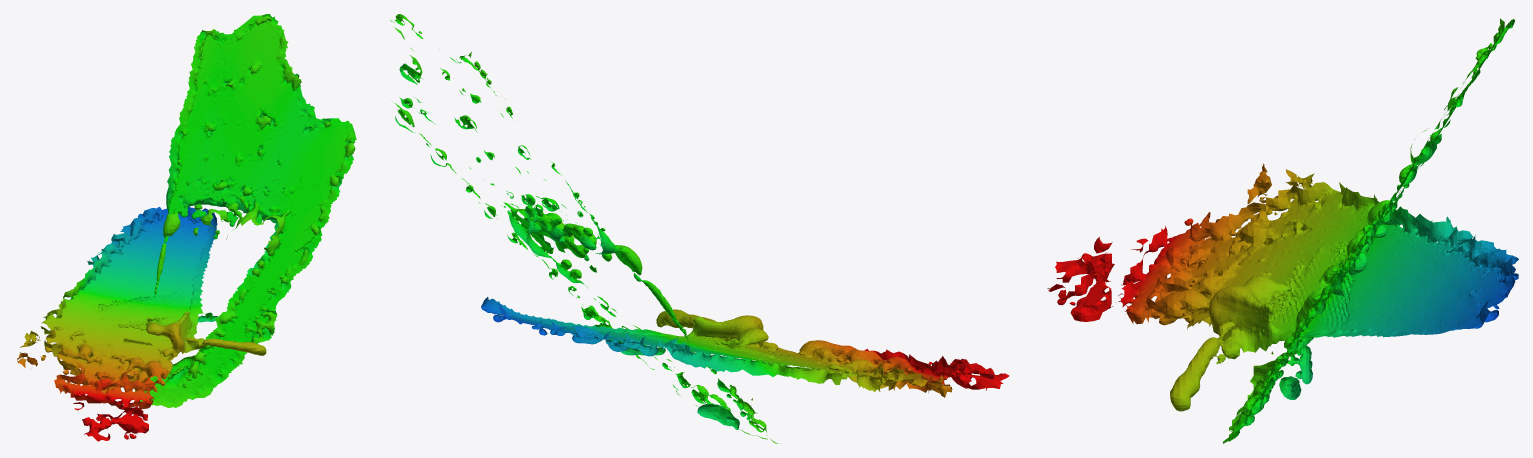
3 renders of one model, left to right at view 1: azimuth 30°, elevation 25°; view 2: azimuth 150°, elevation 25°; view 3: azimuth 270°, elevation 25°, orthographic. The views are drawn at different scales.
Parts seen in each view (by area): view 1: geometry_0; view 2: geometry_0; view 3: geometry_0.
Boxes of the visible parts, box(x1,y1,x2,y2) form: geometry_0: box(17, 14, 356, 441); geometry_0: box(390, 14, 1009, 443); geometry_0: box(1047, 18, 1518, 443).
Bounding box in the file's own units: 2.11 × 1.66 × 1.4.
